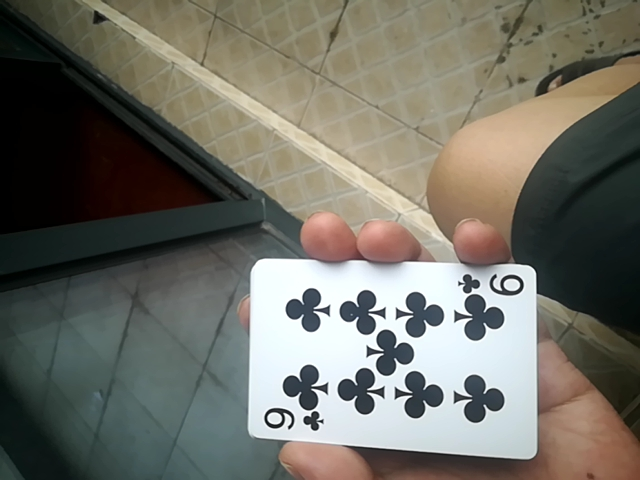mh 9: (246, 247, 545, 455)
